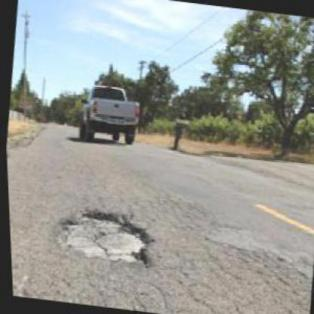Hueco: (48, 203, 156, 270)
